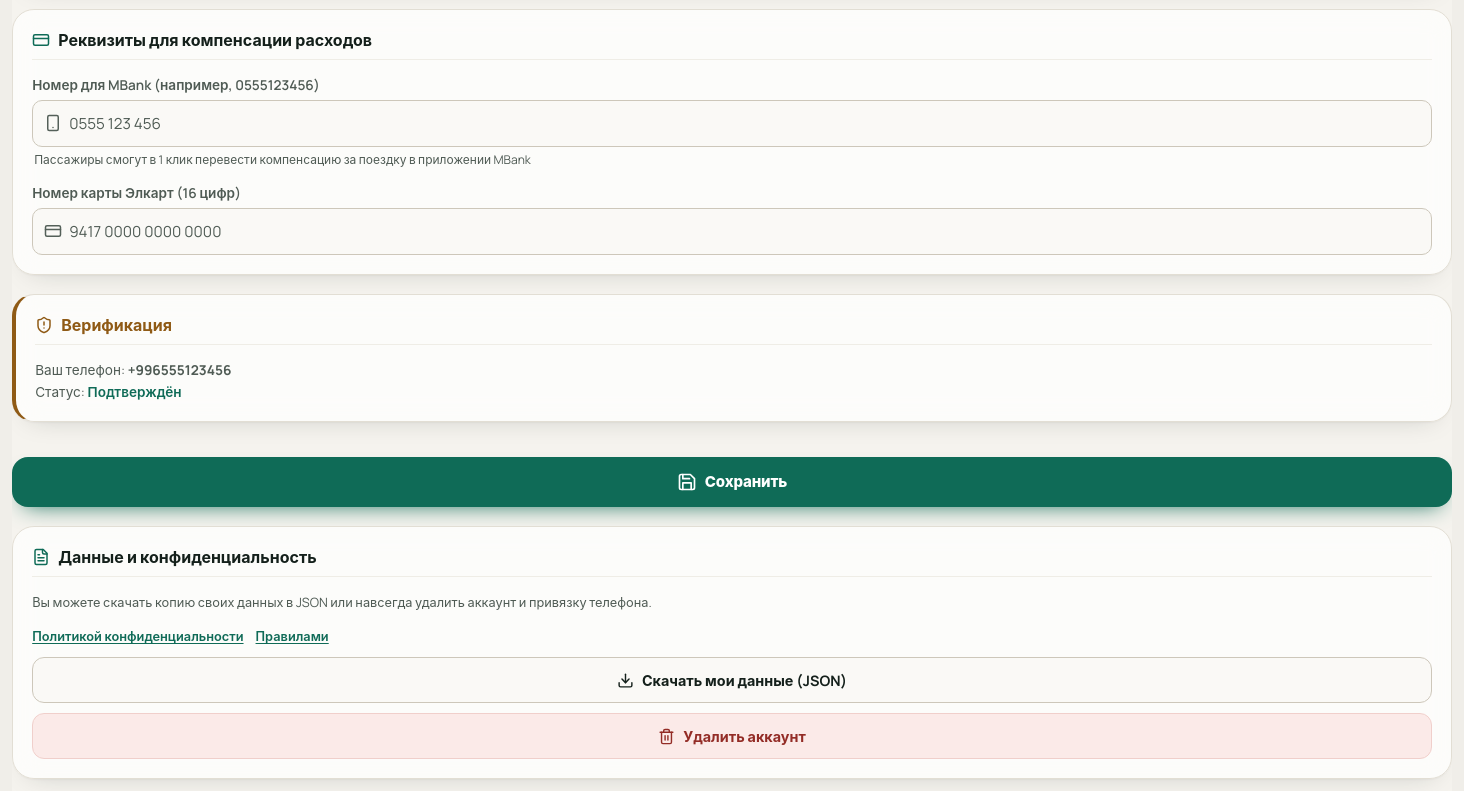
Test: Settings privacy export and account deletion › exports user data and revokes created object URL
(page scrolled)
Click the button "Скачать мои данные (JSON)" at {"x": 732, "y": 680}, box [32,657,1432,703]
(page scrolled)
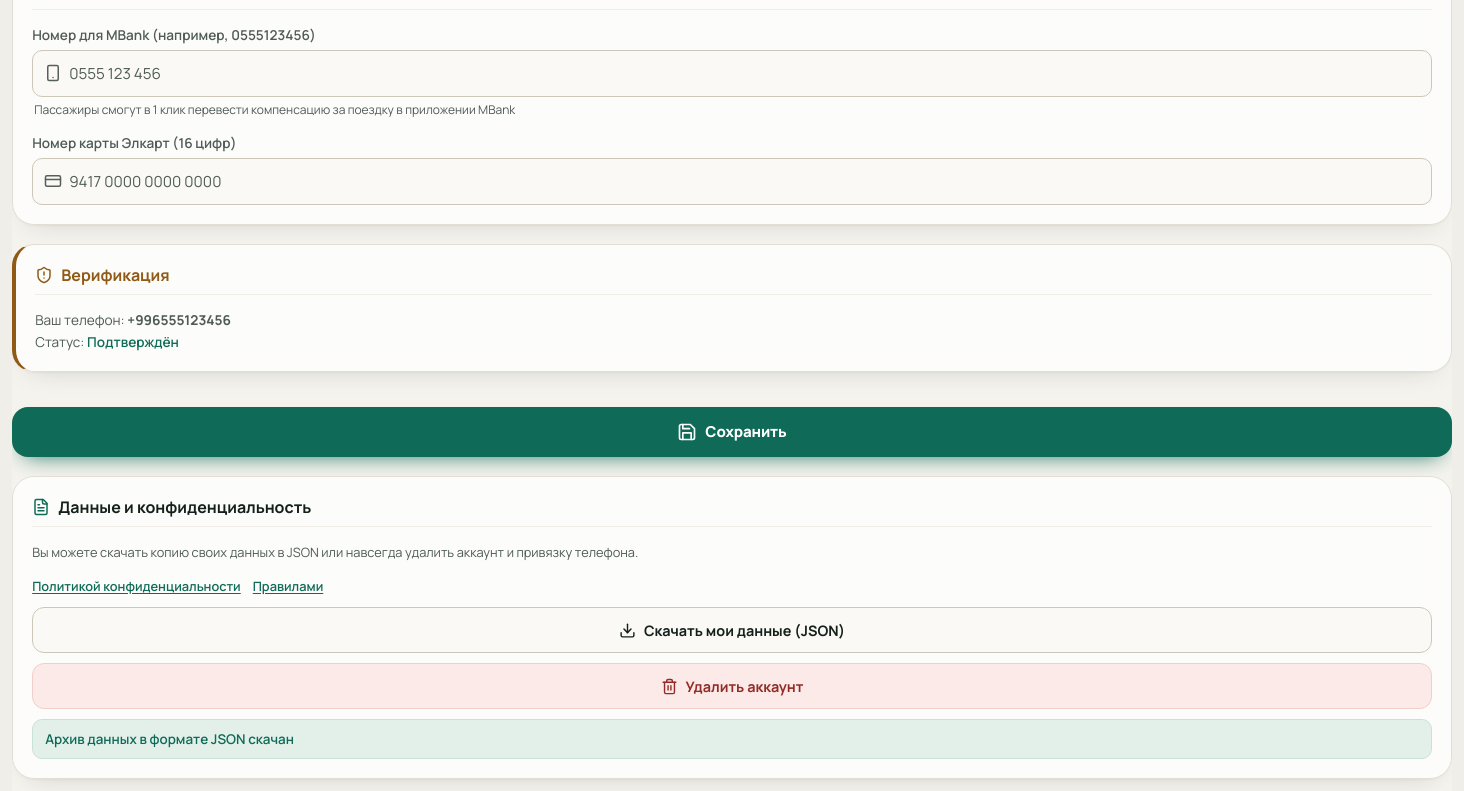
Now the text "Архив данных в формате JSON скачан" is shown, box [32,719,1432,759]
